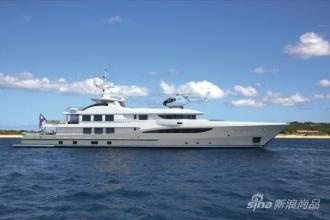yacht: (14, 82, 304, 150)
